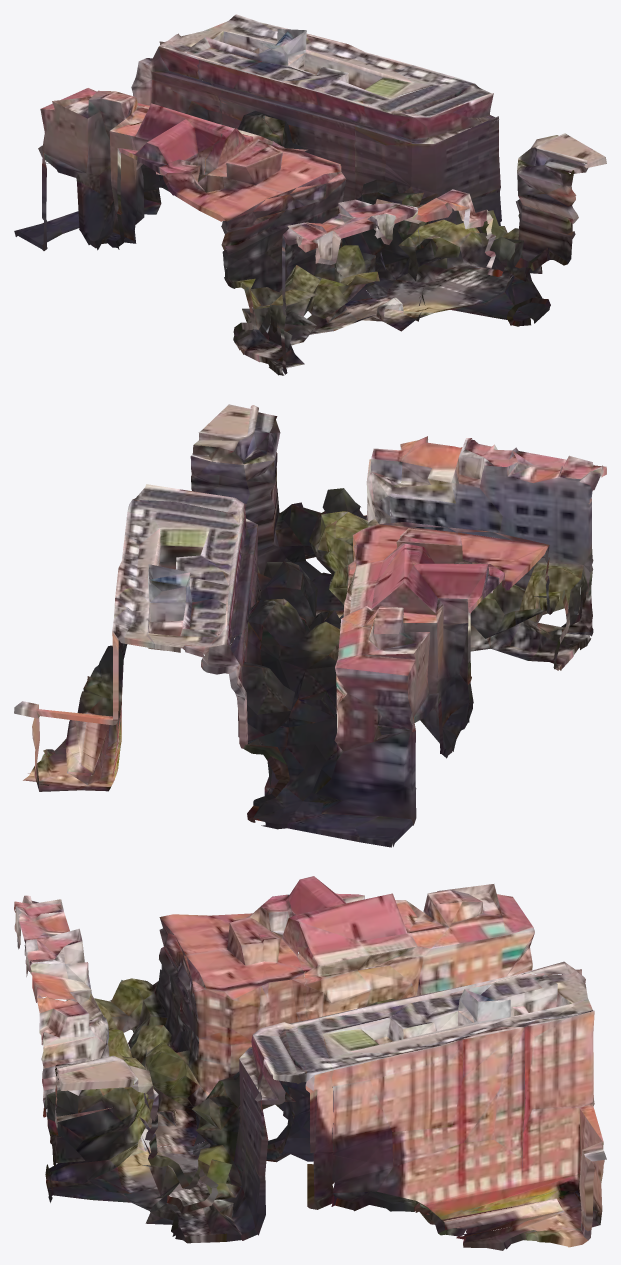
3 renders of one model, top to bottom at view 1: azimuth 30°, elevation 25°; view 2: azimuth 150°, elevation 25°; view 3: azimuth 270°, elevation 25°, orthographic. The views are drawn at different scales.
Parts seen in each view (by area): view 1: Mesh_0; view 2: Mesh_0; view 3: Mesh_0.
Part boxes in pixels (bbox=[...]): Mesh_0: bbox=[14, 14, 606, 375]; Mesh_0: bbox=[14, 404, 606, 847]; Mesh_0: bbox=[14, 876, 606, 1250].
Size of the model in its own units: 66.58 by 32.44 by 82.55.
Materials: 1 (1 with a texture image).
